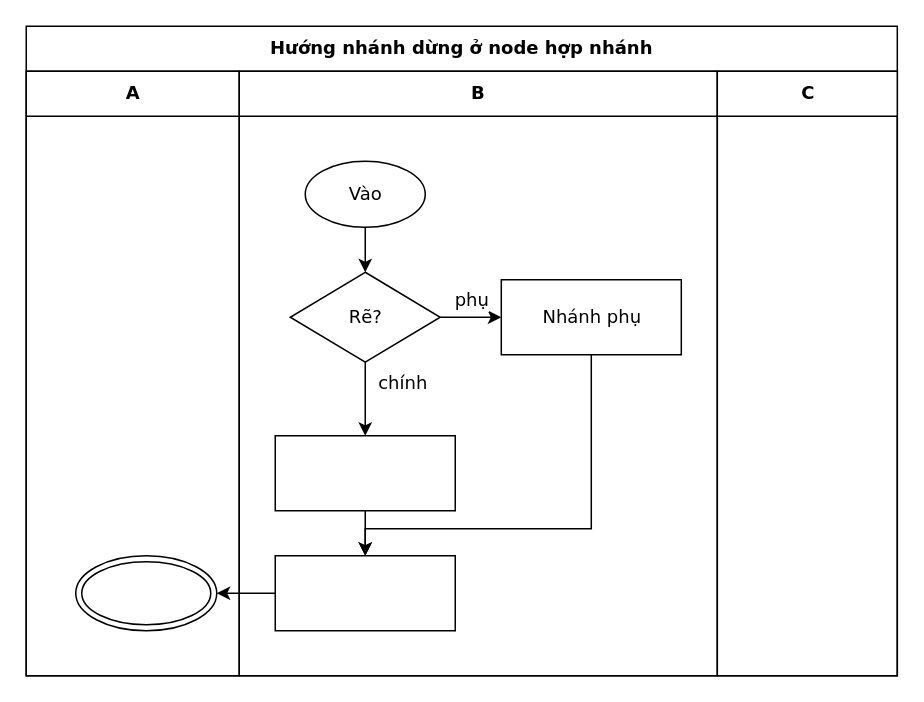
Some shapes in this 924 by 702 pixel diagram are drawn without their labels. The centre of each missing label's shape, as x and y in pixels:
Hợp: the point at 364,592
Nhánh chính: the point at 364,472
Ra trái: the point at 145,592
